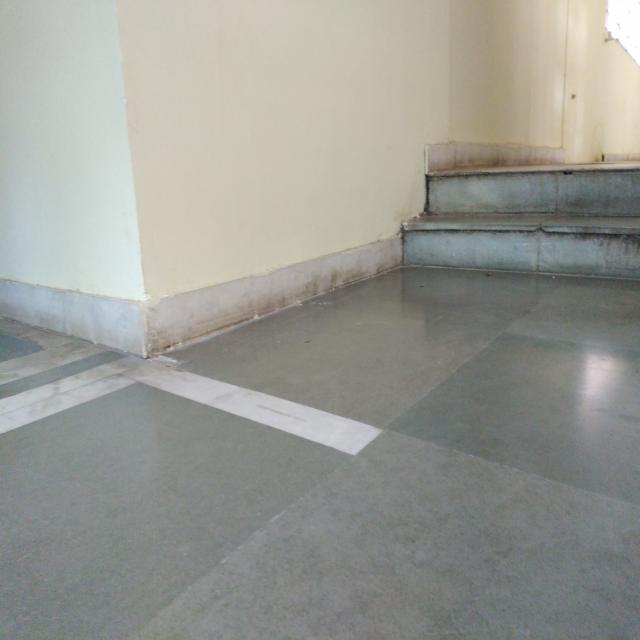stair: (392, 145, 637, 279)
